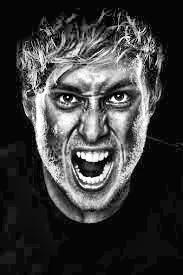angry: (21, 22, 157, 220)
